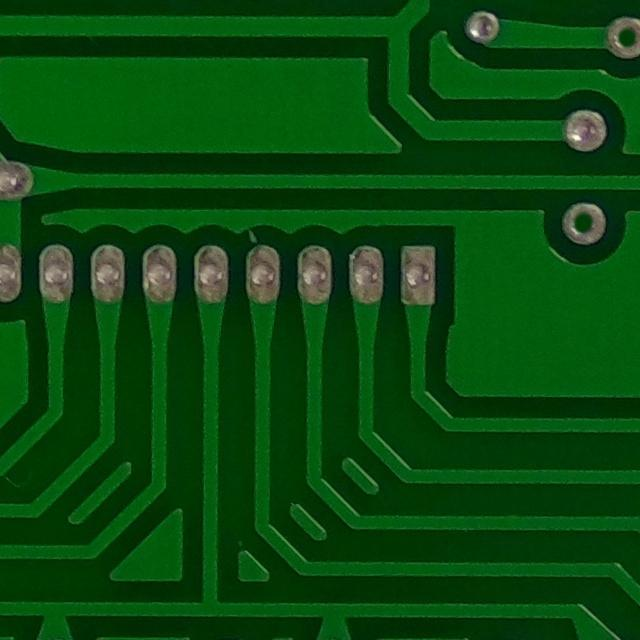missing_hole: (556, 195, 614, 257), (600, 10, 640, 66)
